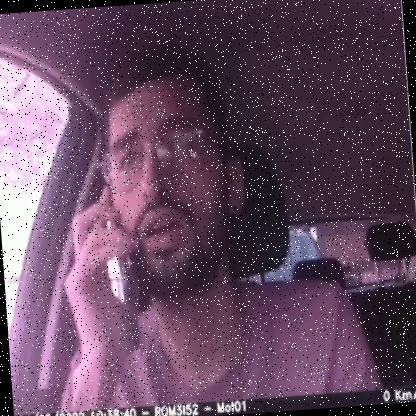phone: (87, 182, 151, 354)
